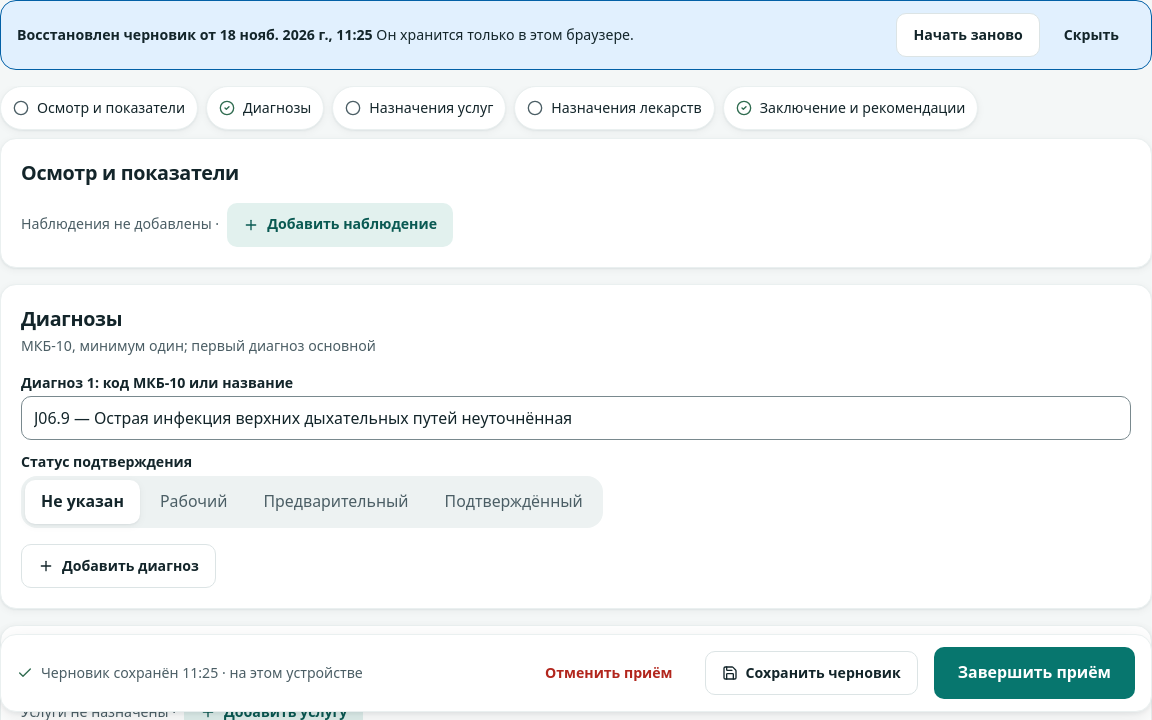
Test case: EncounterCompleteForm restored draft › should hide the notice and keep the text when it is dismissed
Click the button "Скрыть". click: {"x": 1091, "y": 35}
box: [1048,13,1135,57]
(page scrolled)
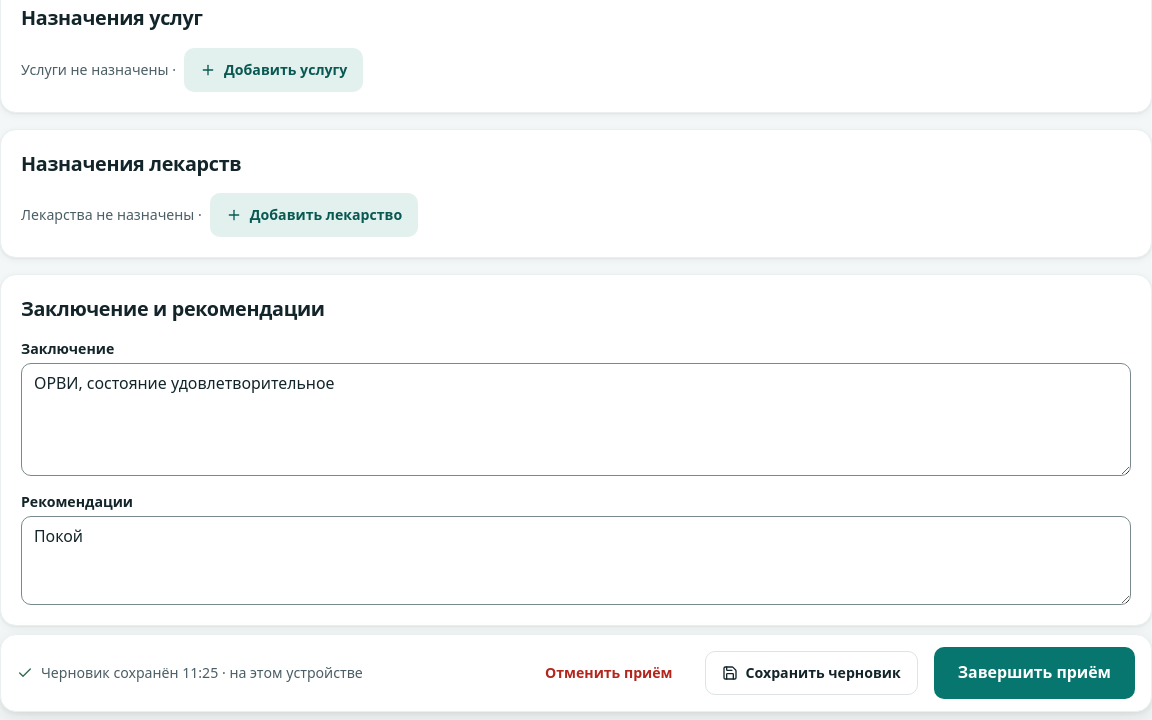
Expected: the text box labelled "Заключение" holds "ОРВИ, состояние удовлетворительное", [21,363,1131,476]
Result: the message with test id "draft-restored" is gone
